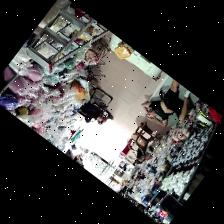person: (141, 79, 189, 125), (96, 111, 112, 123), (73, 154, 79, 161)
